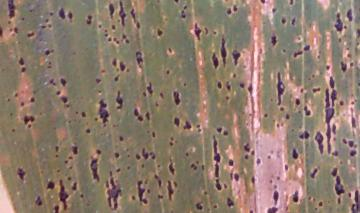tarspot: (323, 89, 340, 156), (209, 133, 226, 195), (104, 172, 125, 212), (218, 34, 231, 70), (97, 97, 112, 128), (58, 179, 71, 213), (135, 177, 148, 209), (275, 71, 287, 105), (313, 129, 326, 156), (88, 157, 101, 182), (331, 176, 348, 195), (133, 47, 146, 71), (333, 9, 344, 36), (170, 87, 184, 108), (118, 1, 128, 29), (130, 106, 145, 124), (114, 89, 125, 113), (129, 7, 141, 29), (350, 187, 360, 213), (15, 165, 29, 183), (105, 2, 118, 20), (229, 48, 242, 66), (296, 129, 312, 143), (209, 50, 220, 70), (165, 179, 175, 201), (290, 143, 301, 163), (5, 1, 16, 20), (55, 4, 66, 23), (141, 150, 157, 163), (193, 20, 202, 43), (152, 172, 163, 190), (268, 33, 281, 48), (166, 161, 178, 177), (223, 195, 236, 209), (229, 171, 242, 184), (301, 105, 313, 119), (345, 6, 354, 24), (309, 165, 319, 181), (327, 73, 337, 89), (154, 27, 166, 40), (144, 81, 155, 95), (171, 114, 182, 128), (182, 118, 193, 132), (21, 115, 36, 125), (58, 76, 70, 88), (69, 143, 81, 155), (44, 179, 56, 191), (339, 59, 348, 75), (350, 113, 358, 131), (334, 195, 346, 207), (290, 190, 300, 204), (119, 58, 127, 75), (34, 193, 43, 208), (271, 189, 280, 204), (265, 204, 280, 213), (69, 180, 81, 191), (194, 201, 206, 212), (214, 123, 225, 135), (347, 147, 359, 158), (47, 75, 57, 88), (8, 125, 19, 136), (291, 48, 302, 59), (178, 10, 189, 21), (16, 54, 26, 66), (226, 156, 236, 168), (230, 1, 240, 13), (302, 42, 312, 54), (347, 58, 357, 70), (53, 142, 62, 155), (150, 129, 159, 142), (247, 81, 255, 95), (93, 23, 107, 31), (18, 65, 29, 75), (25, 30, 36, 40), (79, 109, 89, 120), (65, 10, 75, 21), (162, 66, 173, 76), (84, 14, 94, 25), (248, 173, 258, 184), (241, 152, 252, 162), (310, 84, 321, 94), (330, 165, 340, 176), (165, 45, 175, 56), (323, 62, 333, 73), (337, 97, 347, 108), (43, 47, 55, 56), (133, 151, 142, 163), (292, 97, 304, 106), (144, 108, 151, 123), (110, 56, 118, 69), (224, 5, 232, 18), (241, 142, 251, 152), (109, 23, 119, 33), (182, 149, 192, 159), (270, 6, 280, 16), (52, 202, 61, 213), (117, 133, 126, 144), (112, 151, 123, 160), (157, 90, 168, 99), (237, 80, 246, 91), (348, 137, 357, 148), (189, 161, 198, 172), (223, 93, 232, 104), (274, 120, 283, 131), (28, 93, 36, 105), (215, 79, 223, 91), (290, 15, 298, 27), (61, 96, 70, 106), (315, 199, 325, 208), (225, 83, 234, 93), (230, 71, 239, 81), (261, 111, 271, 120), (298, 86, 307, 96), (93, 77, 104, 85), (129, 192, 137, 203), (111, 75, 122, 83), (310, 70, 318, 81), (12, 25, 19, 37), (193, 127, 205, 134), (17, 100, 26, 109), (54, 88, 63, 97), (279, 16, 288, 25), (277, 104, 286, 113), (284, 113, 293, 122), (93, 148, 103, 156), (254, 157, 262, 167), (340, 137, 348, 147), (168, 139, 176, 149), (12, 90, 20, 100), (283, 161, 289, 174), (286, 1, 297, 8), (84, 127, 92, 136), (38, 23, 47, 31), (211, 202, 219, 211), (201, 189, 209, 198), (193, 122, 203, 129), (265, 154, 275, 161), (115, 37, 123, 45), (246, 206, 255, 213), (121, 31, 128, 40), (62, 158, 71, 165), (1, 26, 5, 41), (26, 123, 33, 131), (106, 36, 113, 44), (79, 191, 84, 202), (258, 1, 268, 6), (47, 11, 55, 17), (115, 167, 123, 173), (171, 1, 182, 5)
